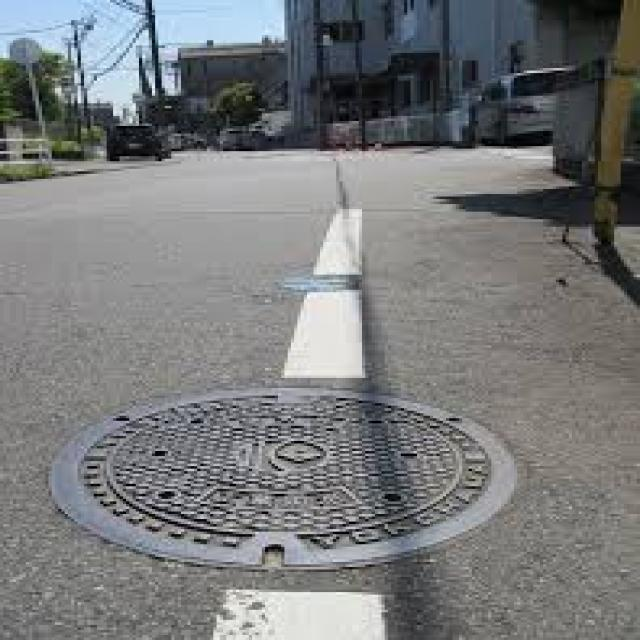manhole: (52, 386, 520, 574)
